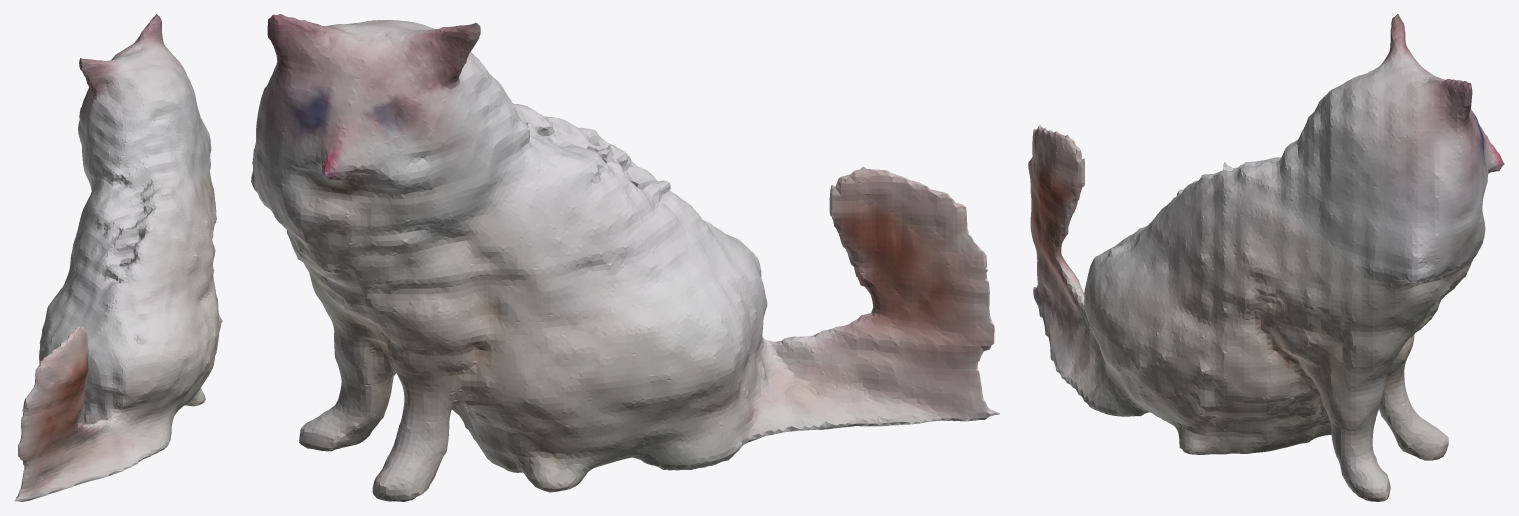
The picture shows the model from 3 angles, left to right: view 1: azimuth 30°, elevation 25°; view 2: azimuth 150°, elevation 25°; view 3: azimuth 270°, elevation 25°; orthographic projection. The views are drawn at different scales.
Visible parts, largest first — view 1: model.glb; view 2: model.glb; view 3: model.glb.
Boxes of the visible parts, x1=… form: model.glb: x1=14, y1=14, x2=222, y2=501; model.glb: x1=251, y1=14, x2=999, y2=501; model.glb: x1=1028, y1=14, x2=1504, y2=501.
Bounding box in the file's own units: 1 × 0.8712 × 0.9016.
